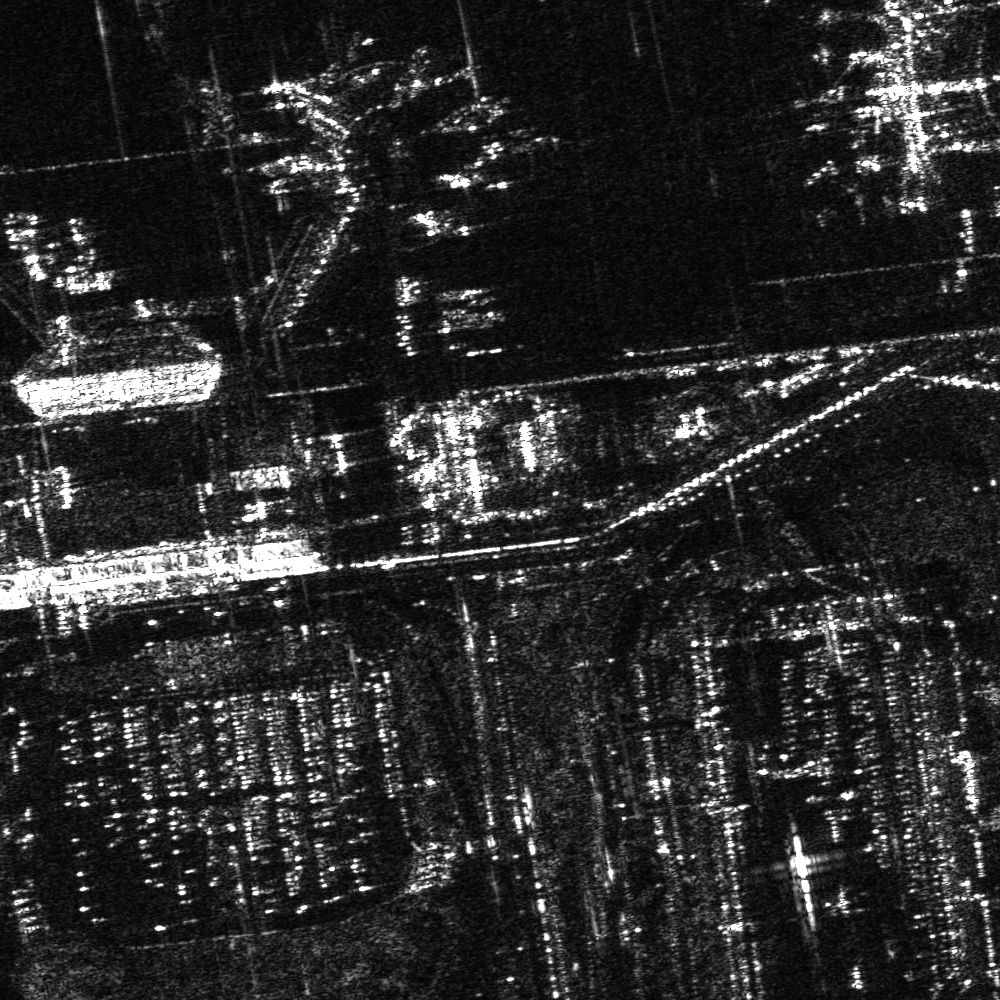Boeing787: (813, 177, 872, 229)
